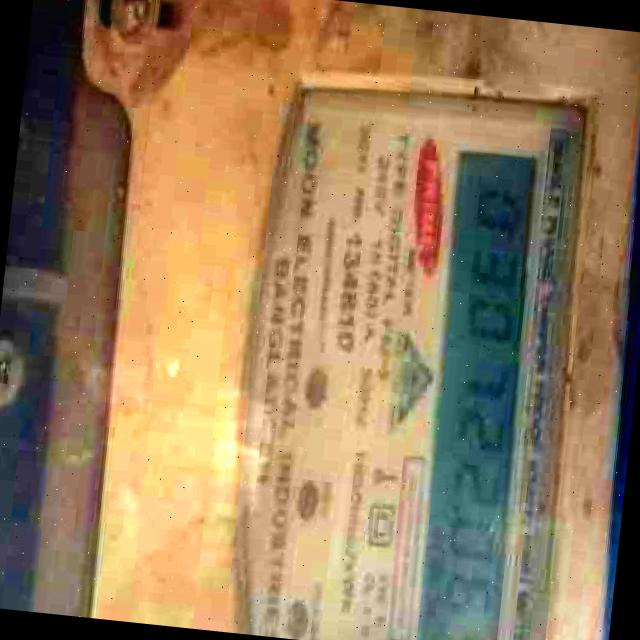LCD: (406, 133, 551, 640)
